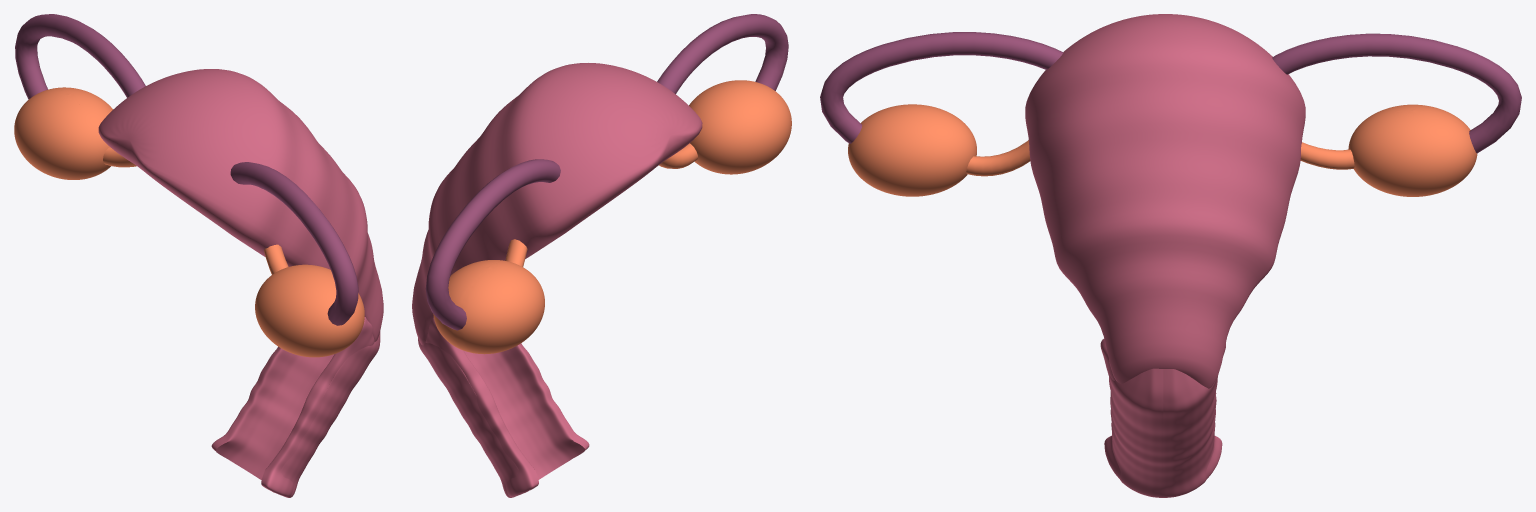
The model's file is female_reproductive_system.glb.
The picture shows the model from 3 angles, left to right: view 1: azimuth 30°, elevation 25°; view 2: azimuth 150°, elevation 25°; view 3: azimuth 270°, elevation 25°; orthographic projection. The views are drawn at different scales.
Parts seen in each view (by area): view 1: WOMB_4, OVARIES_5, UTERUS_3, TUBE_R.001_10, TUBE_L.001_11, Ov_Tube_R.002_12; view 2: WOMB_4, OVARIES_5, UTERUS_3, TUBE_L.001_11, TUBE_R.001_10, Ov_Tube_R.002_12, Ov_Tube_R.003_13; view 3: WOMB_4, OVARIES_5, UTERUS_3, TUBE_L.001_11, TUBE_R.001_10, Ov_Tube_R.002_12, Ov_Tube_R.003_13.
Part boxes in pixels (x1,y1,x2,y2): WOMB_4: (98,69,383,341); OVARIES_5: (14,87,364,357); UTERUS_3: (211,317,380,497); TUBE_R.001_10: (230,162,358,325); TUBE_L.001_11: (15,14,145,99); Ov_Tube_R.002_12: (264,244,288,274); WOMB_4: (412,63,702,345); OVARIES_5: (433,80,791,354); UTERUS_3: (418,317,589,497); TUBE_L.001_11: (425,159,560,330); TUBE_R.001_10: (657,14,788,93); Ov_Tube_R.002_12: (659,143,697,168); Ov_Tube_R.003_13: (505,239,527,266); WOMB_4: (1025,14,1305,388); OVARIES_5: (848,104,1477,196); UTERUS_3: (1100,339,1225,497); TUBE_L.001_11: (1272,33,1521,153); TUBE_R.001_10: (820,32,1063,143); Ov_Tube_R.002_12: (966,140,1030,176); Ov_Tube_R.003_13: (1300,142,1354,169).
Size of the model in its own units: 1.56 by 2.52 by 3.67.
